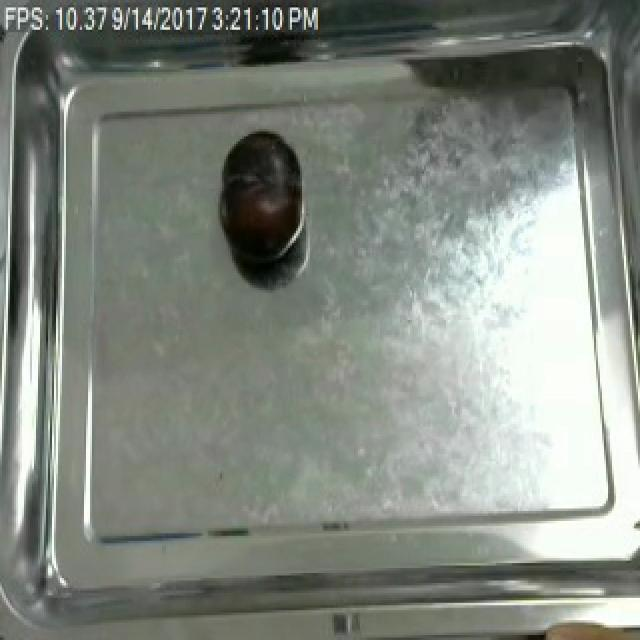Fruit: (214, 126, 304, 268)
